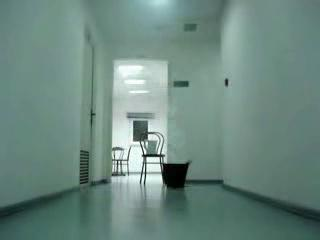smoke: (163, 86, 191, 162)
